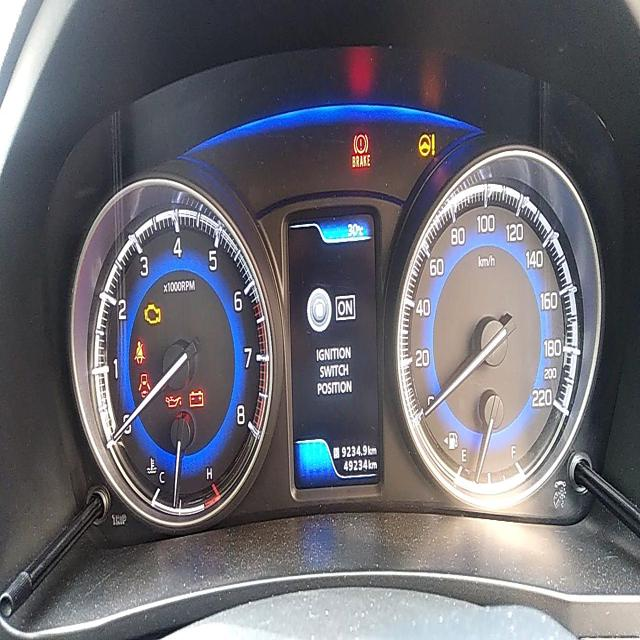odometer: (342, 456, 370, 474)
